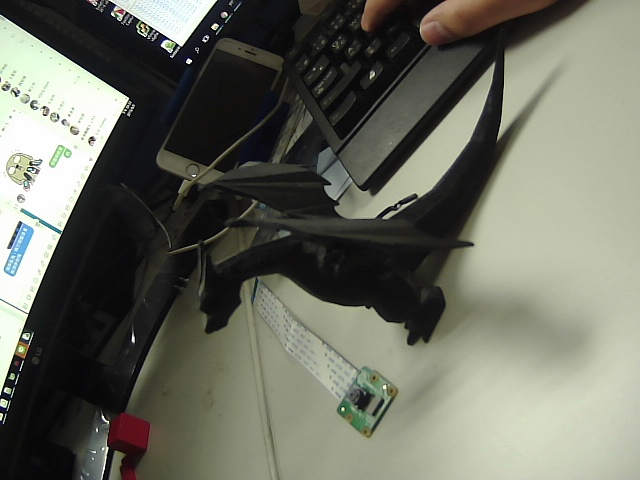charizard: (165, 25, 594, 380)
